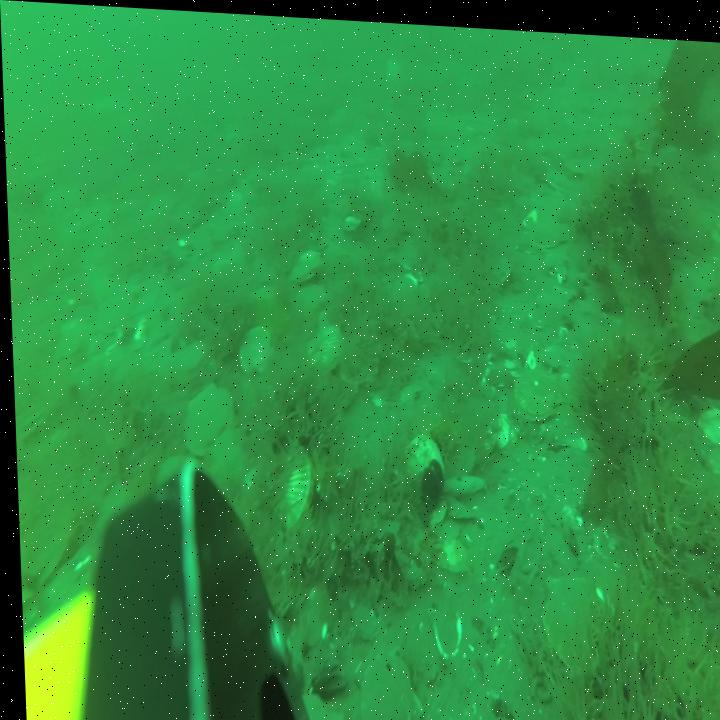scallop: (537, 566, 602, 669), (354, 639, 416, 720), (267, 439, 310, 527), (183, 382, 234, 455), (512, 356, 559, 420), (202, 429, 242, 502), (160, 331, 205, 386), (304, 319, 343, 378), (376, 265, 415, 323), (16, 399, 59, 445), (236, 324, 272, 376), (288, 245, 321, 290)
